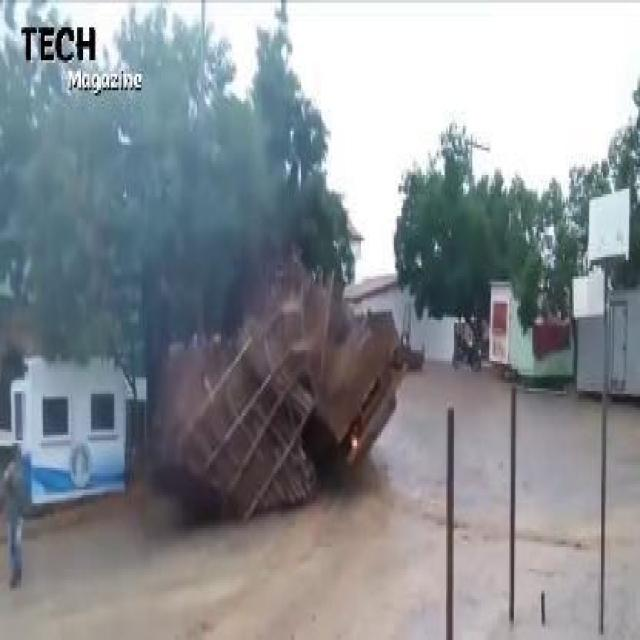accident: (171, 232, 409, 544)
